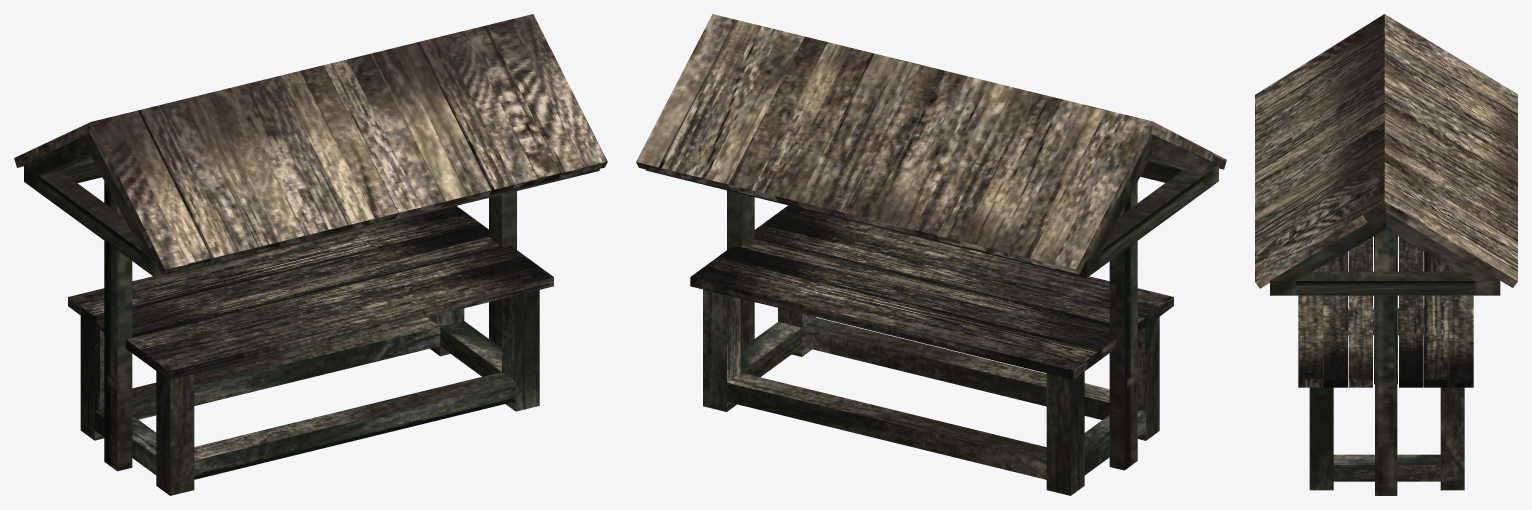
The model's file is BarracaMercado.fbx.
3 renders of one model, left to right at view 1: azimuth 30°, elevation 25°; view 2: azimuth 150°, elevation 25°; view 3: azimuth 270°, elevation 25°, orthographic. The views are drawn at different scales.
Parts seen in each view (by area): view 1: Telhado.001, Base mesa.001, Mesa, Suportes, Base mesa, Telhado; view 2: Telhado.001, Base mesa.001, Mesa, Suportes, Base mesa, Telhado; view 3: Telhado.001, Base mesa.001, Suportes, Mesa, Telhado, Base mesa.
Boxes of the visible parts, left/top/right/bottom form: Telhado.001: left=91, top=14, right=607, bottom=269; Base mesa.001: left=68, top=206, right=553, bottom=370; Mesa: left=80, top=290, right=539, bottom=495; Suportes: left=24, top=133, right=599, bottom=471; Base mesa: left=68, top=213, right=553, bottom=380; Telhado: left=14, top=36, right=607, bottom=275; Telhado.001: left=636, top=14, right=1152, bottom=269; Base mesa.001: left=690, top=205, right=1173, bottom=370; Mesa: left=703, top=289, right=1159, bottom=495; Suportes: left=645, top=134, right=1218, bottom=470; Base mesa: left=690, top=214, right=1173, bottom=379; Telhado: left=636, top=35, right=1226, bottom=274; Telhado.001: left=1255, top=14, right=1517, bottom=281; Base mesa.001: left=1298, top=236, right=1473, bottom=379; Suportes: left=1270, top=211, right=1500, bottom=495; Mesa: left=1309, top=265, right=1464, bottom=490; Telhado: left=1255, top=89, right=1517, bottom=288; Base mesa: left=1298, top=376, right=1473, bottom=387.
Size of the model in its own units: 445 by 337 by 264.
Materials: 4 (4 with a texture image).
